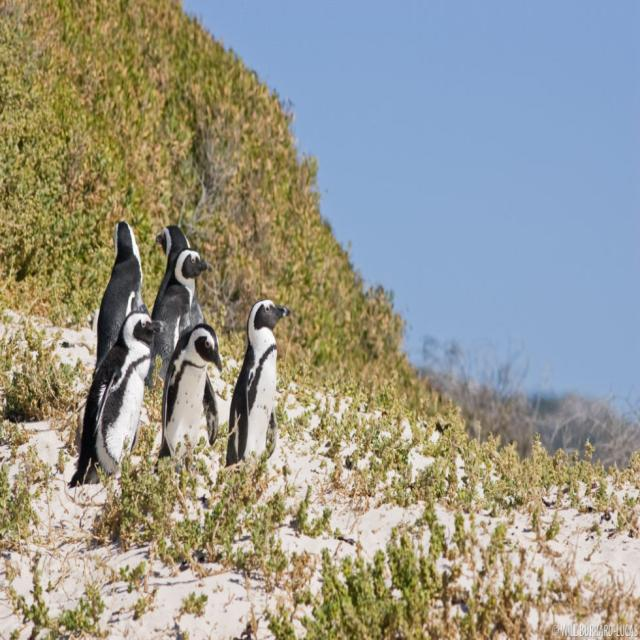Penguins: (88, 300, 162, 499), (220, 293, 297, 470), (157, 316, 231, 486), (91, 206, 146, 356), (158, 221, 204, 386)
